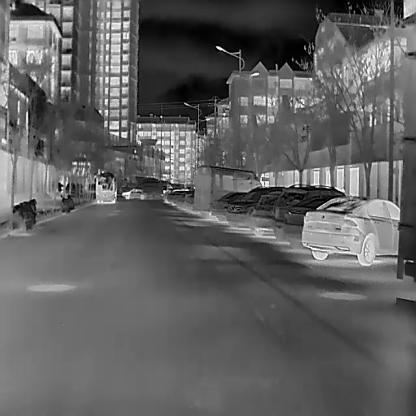bus: (93, 172, 115, 203)
car: (302, 198, 401, 266), (269, 182, 345, 240), (193, 164, 263, 214), (286, 196, 346, 251), (226, 184, 277, 231), (249, 186, 290, 236), (212, 193, 244, 221), (132, 178, 161, 200), (120, 188, 149, 200)
